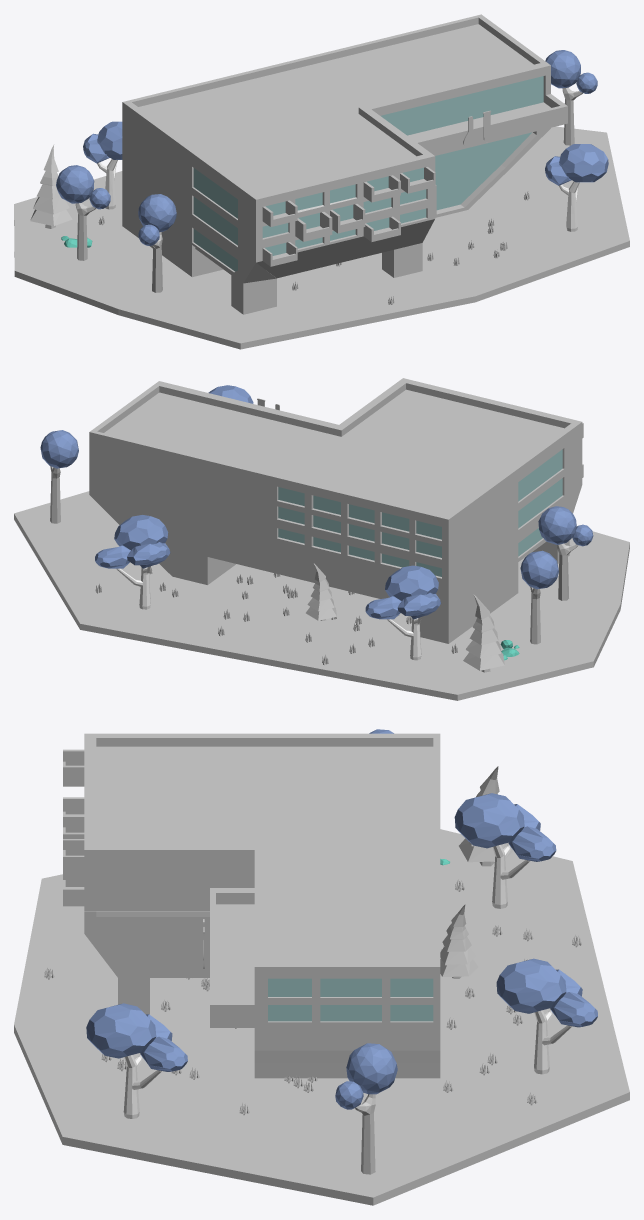
The model's file is campus.obj.
3 views of the same model, one above another, from view 1: azimuth 30°, elevation 25°; view 2: azimuth 150°, elevation 25°; view 3: azimuth 270°, elevation 25° (orthographic). The views are drawn at different scales.
Parts seen in each view (by area): view 1: Boole, Loft.1, Cylinder.001, Platonic_1, Icosphere_Icosphere_002, Icosphere_Icosphere_002_2, Icosphere_Icosphere_002_1, Platonic, Cylinder_014, Cylinder_014_1, Cylinder_1, Cylinder_014_2 (+2 smaller); view 2: Boole, Loft.1, Cylinder.001, Platonic, Platonic_2, Icosphere_Icosphere_002_2, Icosphere_Icosphere_002_1, Icosphere_Icosphere_002, Cylinder_3, Platonic.1_2, Platonic.1, Platonic.2 (+7 smaller); view 3: Boole, Loft.1, Platonic_2, Platonic_1, Platonic, Icosphere_Icosphere_002_1, Cylinder_3, Platonic.2_1, Platonic.2_2, Platonic.2, Cylinder_014_1, Cylinder_1 (+3 smaller).
Part boxes in pixels (x1,y1,x2,y2): Boole: [122, 14, 567, 314]; Loft.1: [14, 126, 629, 349]; Cylinder.001: [30, 144, 72, 228]; Platonic_1: [559, 144, 608, 182]; Icosphere_Icosphere_002: [56, 165, 94, 203]; Icosphere_Icosphere_002_2: [138, 194, 176, 232]; Icosphere_Icosphere_002_1: [545, 50, 580, 88]; Platonic: [97, 121, 122, 159]; Cylinder_014: [75, 203, 95, 260]; Cylinder_014_1: [562, 87, 582, 145]; Cylinder_1: [559, 181, 579, 231]; Cylinder_014_2: [152, 232, 162, 292]; Boole: [89, 378, 583, 643]; Loft.1: [14, 491, 629, 700]; Cylinder.001: [463, 594, 504, 672]; Platonic: [385, 565, 438, 600]; Platonic_2: [114, 515, 168, 550]; Icosphere_Icosphere_002_2: [538, 506, 576, 544]; Icosphere_Icosphere_002_1: [40, 430, 78, 468]; Icosphere_Icosphere_002: [520, 550, 558, 589]; Cylinder_3: [306, 563, 336, 620]; Platonic.1_2: [127, 542, 170, 568]; Platonic.1: [397, 592, 441, 619]; Platonic.2: [365, 596, 401, 619]; Boole: [63, 733, 440, 1078]; Loft.1: [14, 829, 629, 1205]; Platonic_2: [496, 958, 566, 1013]; Platonic_1: [86, 1003, 156, 1058]; Platonic: [454, 793, 524, 848]; Icosphere_Icosphere_002_1: [346, 1043, 397, 1094]; Cylinder_3: [440, 904, 478, 978]; Platonic.2_1: [140, 1036, 187, 1071]; Platonic.2_2: [550, 992, 597, 1027]; Platonic.2: [508, 826, 556, 861]; Cylinder_014_1: [355, 1094, 375, 1174]; Cylinder_1: [123, 1053, 161, 1118].
Bounding box in the file's own units: 565 × 120 × 387.
